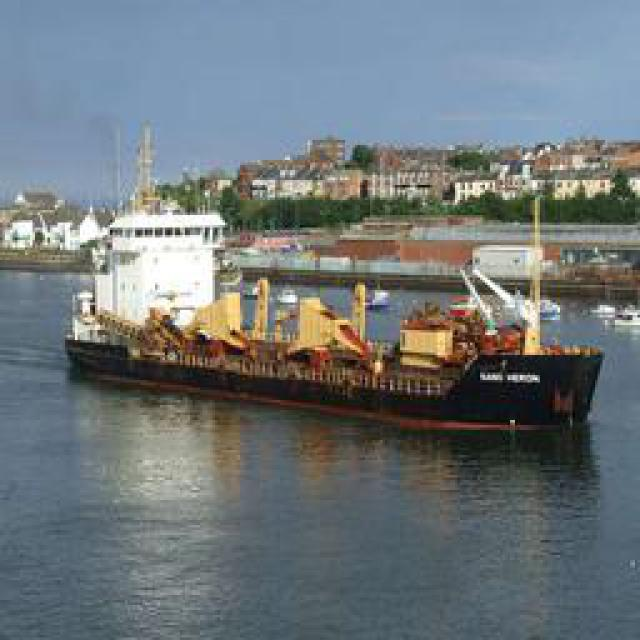Ship: (72, 254, 630, 434)
